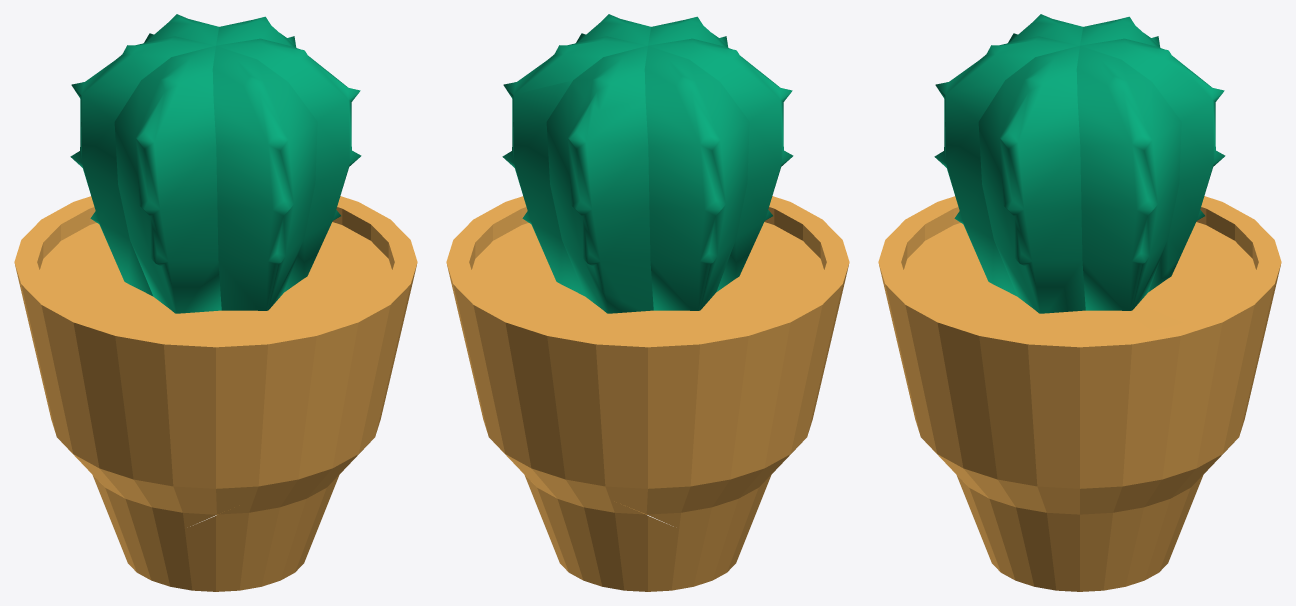
Rendered from cactus-cutted.fbx.
The picture shows the model from 3 angles, left to right: view 1: azimuth 30°, elevation 25°; view 2: azimuth 150°, elevation 25°; view 3: azimuth 270°, elevation 25°; orthographic projection.
Visible parts, largest first — view 1: ID41_1, cactus_mesh, Object001; view 2: ID41_1, cactus_mesh, Object001; view 3: cactus_mesh, Object001, ID41_1.
Boxes of the visible parts, <box> form: ID41_1: <box>14,196,417,534</box>; cactus_mesh: <box>70,14,361,313</box>; Object001: <box>108,265,416,591</box>; ID41_1: <box>446,196,849,534</box>; cactus_mesh: <box>502,14,793,313</box>; Object001: <box>447,265,755,591</box>; cactus_mesh: <box>934,14,1225,313</box>; Object001: <box>909,334,1250,591</box>; ID41_1: <box>878,196,1281,404</box>.
Size of the model in its own units: 60.13 by 84.14 by 60.13.
